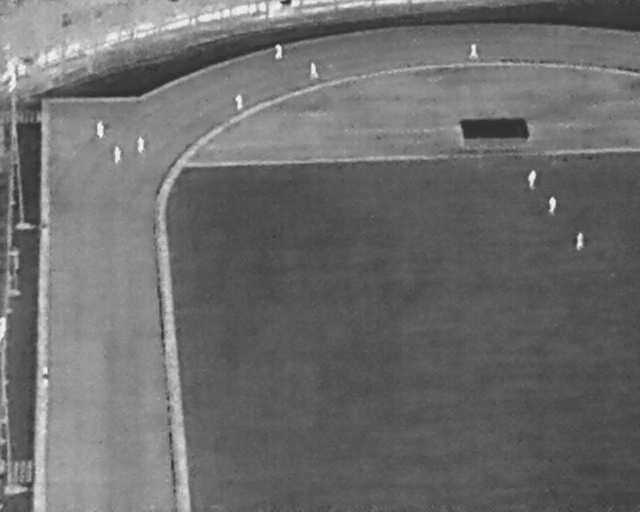Person: (527, 169, 537, 190), (42, 365, 50, 388), (96, 120, 105, 140), (309, 61, 319, 79), (548, 195, 557, 215), (114, 145, 122, 165), (576, 231, 584, 251), (235, 93, 244, 110), (137, 136, 145, 154), (275, 43, 283, 59), (470, 43, 478, 59)
